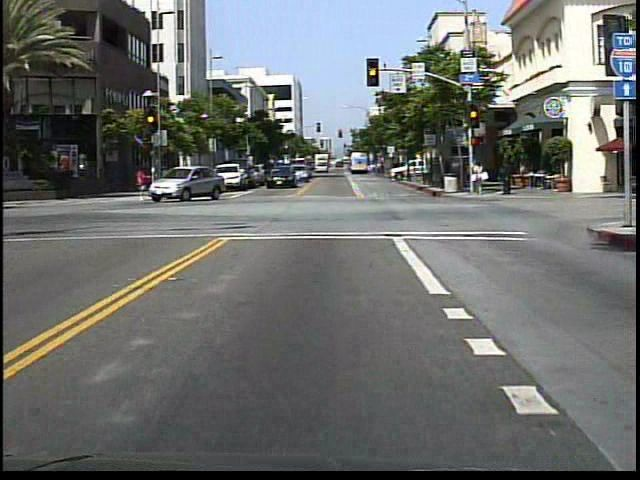person: (469, 158, 490, 199), (498, 157, 515, 198), (136, 166, 152, 196)
